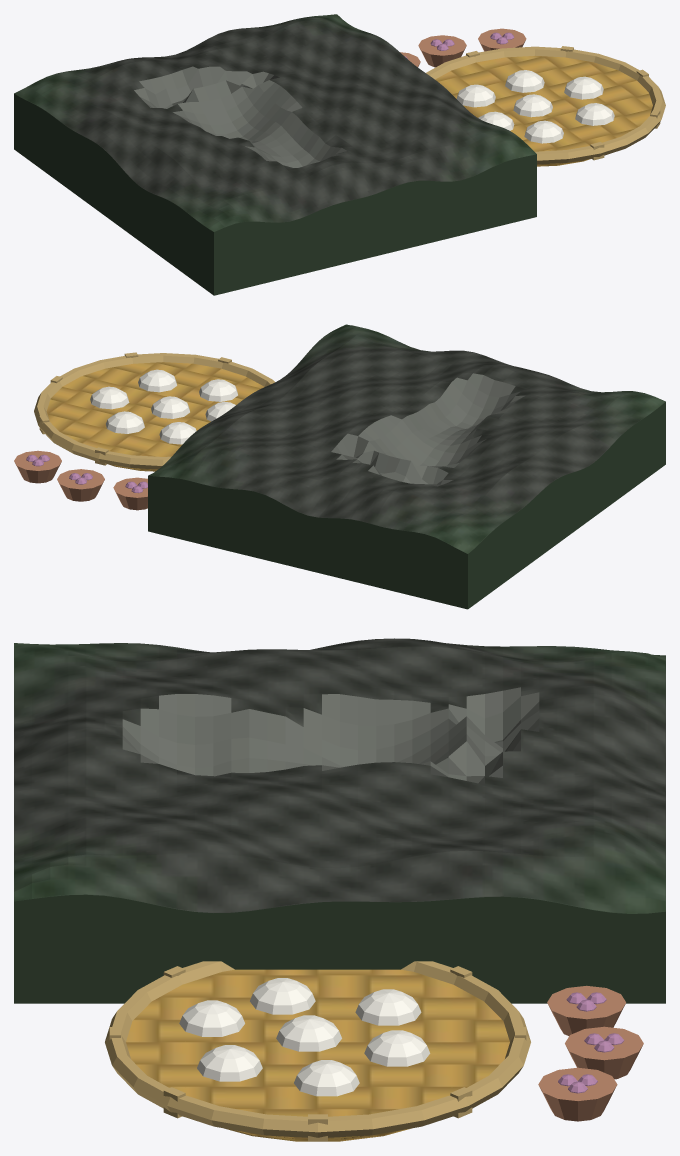
File: dau_chan_va_nia_tre.glb
The picture shows the model from 3 angles, top to bottom: view 1: azimuth 30°, elevation 25°; view 2: azimuth 150°, elevation 25°; view 3: azimuth 270°, elevation 25°; orthographic projection. The views are drawn at different scales.
Visible parts, largest first — view 1: Dau_Chan_Va_Nia_Tre; view 2: Dau_Chan_Va_Nia_Tre; view 3: Dau_Chan_Va_Nia_Tre.
Part boxes in pixels (left/top/right/bottom): Dau_Chan_Va_Nia_Tre: left=14, top=14, right=665, bottom=295; Dau_Chan_Va_Nia_Tre: left=14, top=324, right=665, bottom=609; Dau_Chan_Va_Nia_Tre: left=14, top=638, right=665, bottom=1141.
Bounding box in the file's own units: 2.25 × 0.326 × 1.48.
7 materials, 2 textured.
